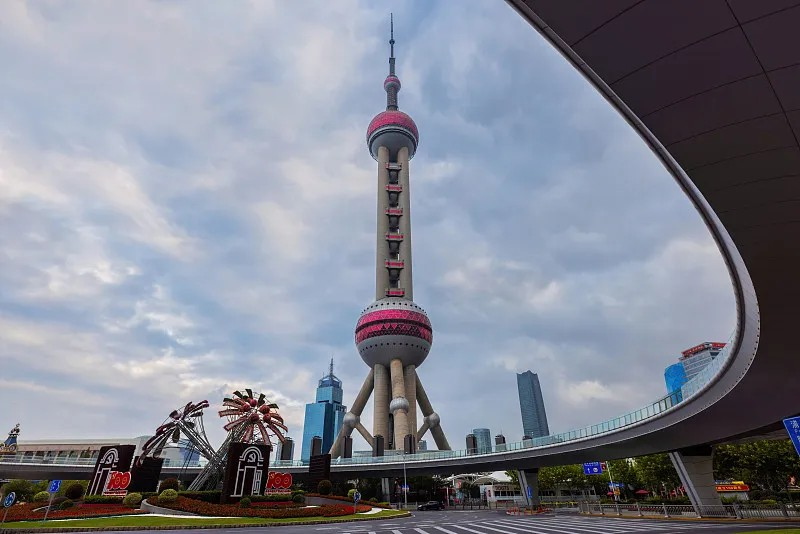Oriental: (328, 13, 452, 455)
